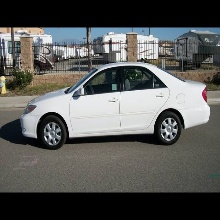no damage: (19, 61, 212, 150)
